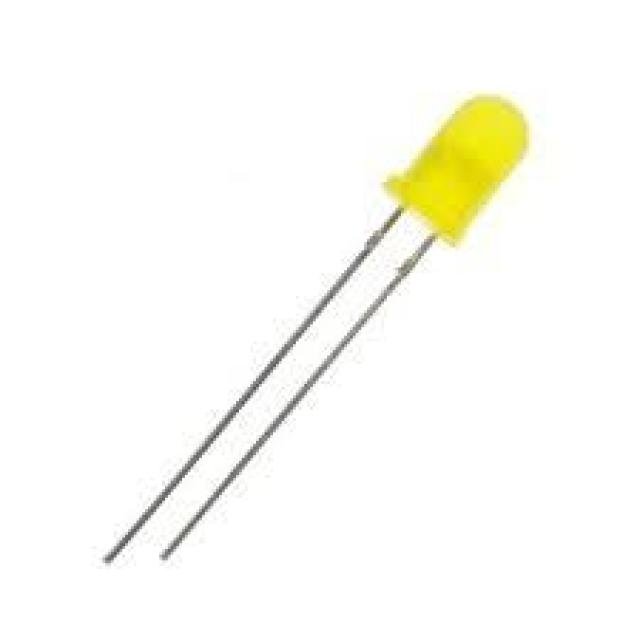Led: (104, 96, 526, 562)
